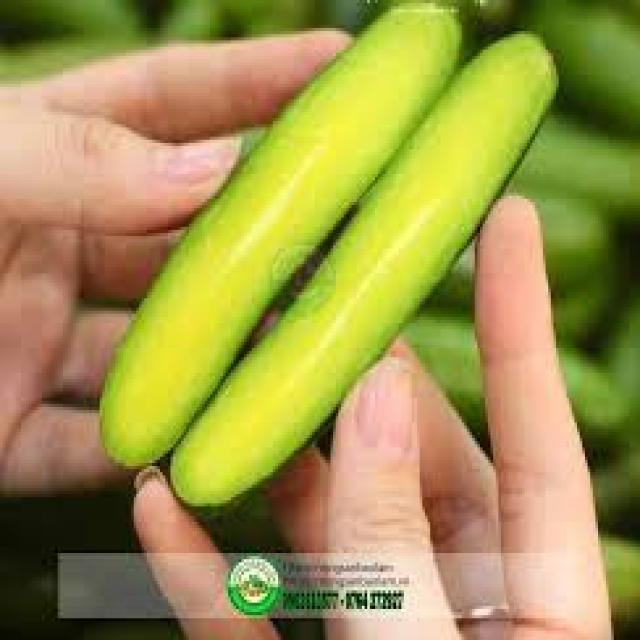Bo: (97, 6, 578, 521)
